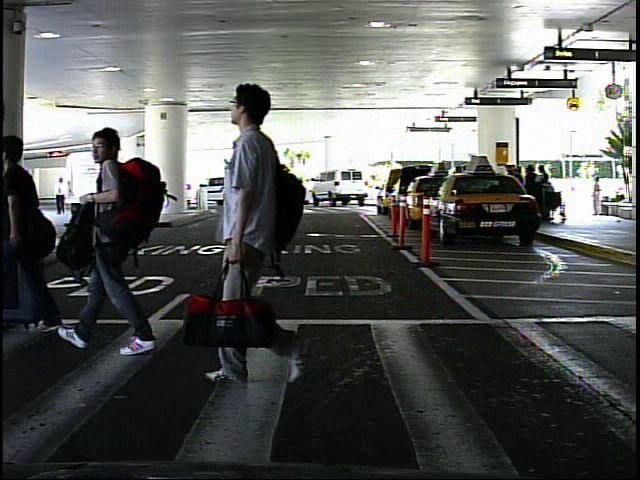person: (209, 72, 317, 392), (65, 118, 165, 359), (4, 115, 68, 355), (588, 173, 607, 219), (53, 171, 71, 217)
